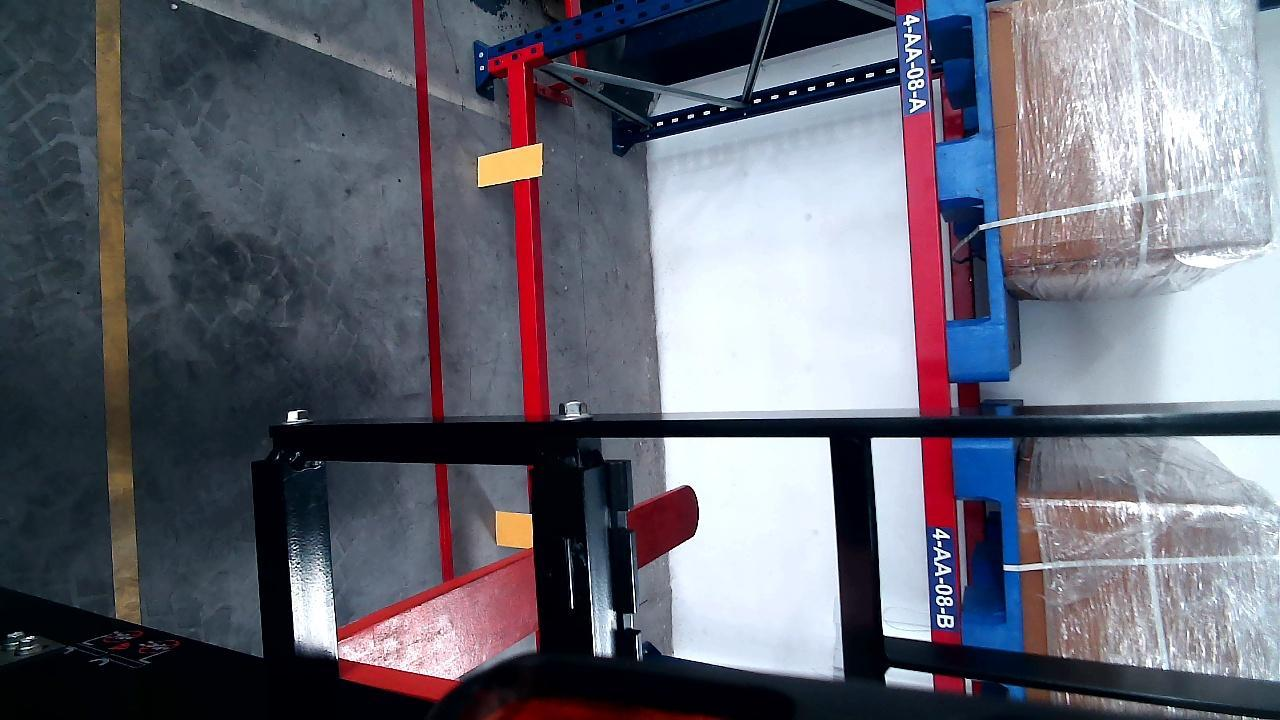red_line: (414, 0, 453, 585)
yellow_line: (94, 0, 140, 626)
